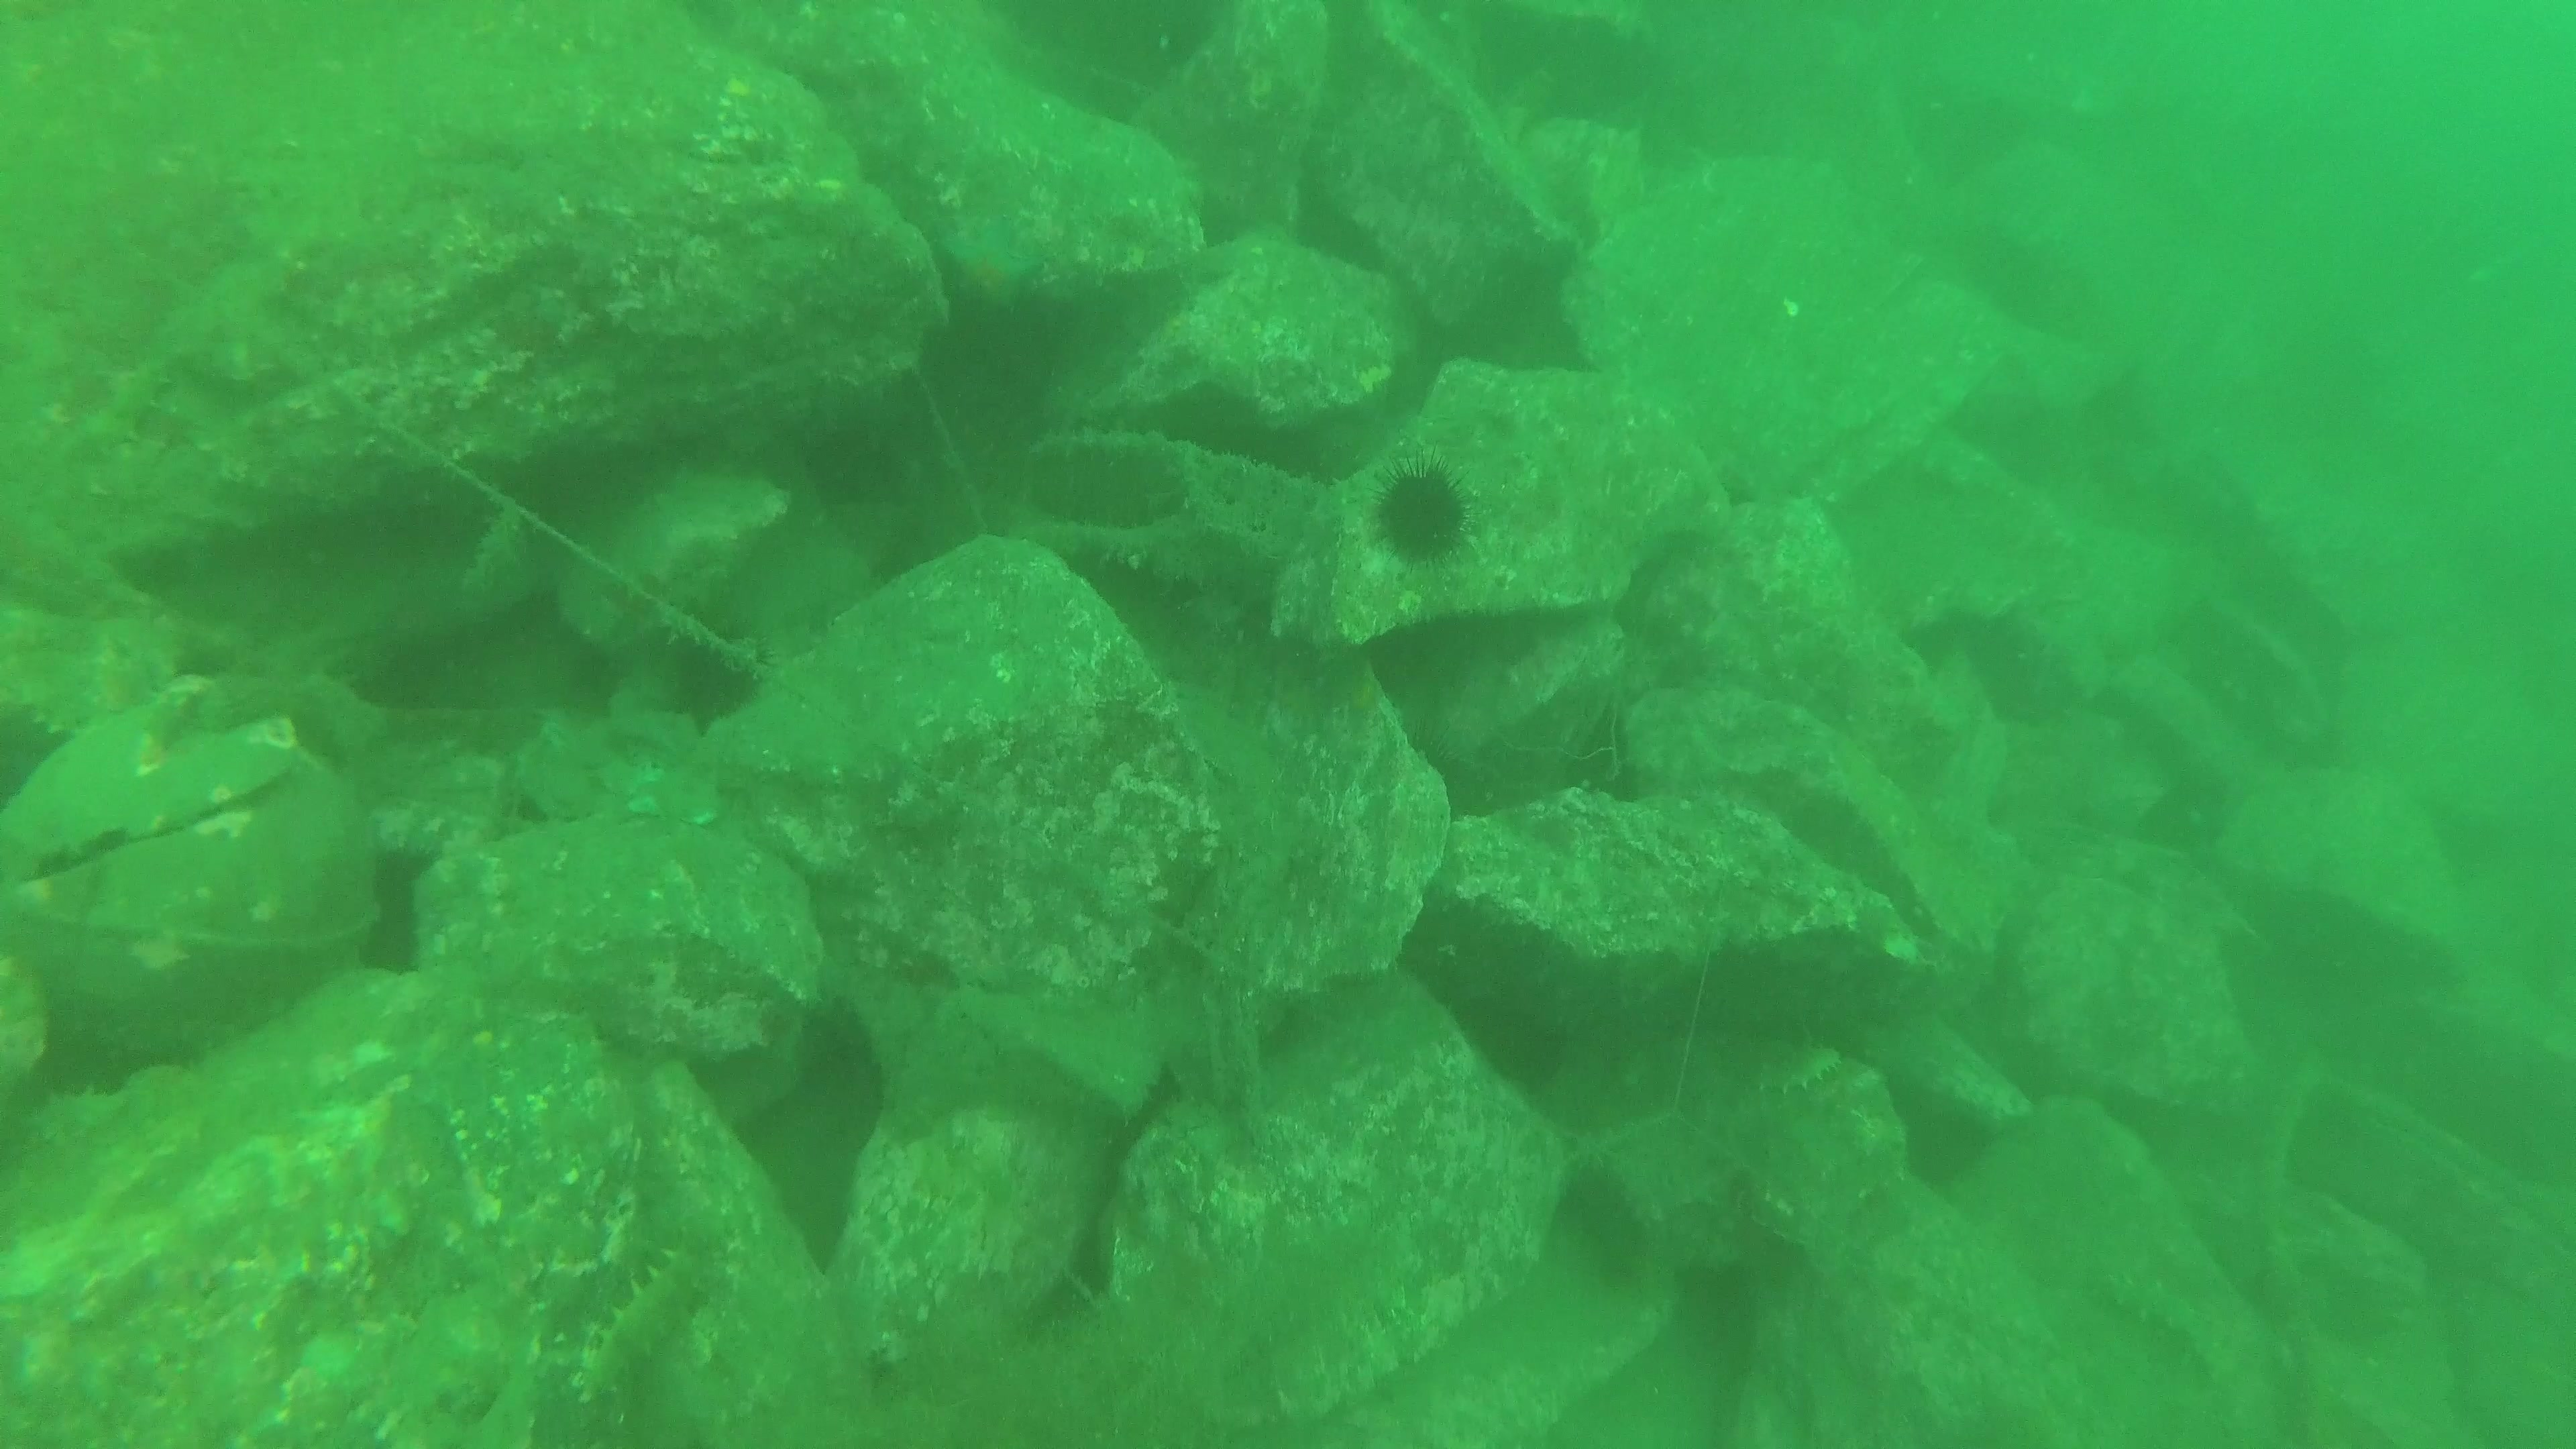echinus: (1369, 449, 1477, 570), (671, 632, 771, 731)
holothurian: (571, 1246, 701, 1407), (800, 426, 895, 511), (1760, 1046, 1844, 1097)
